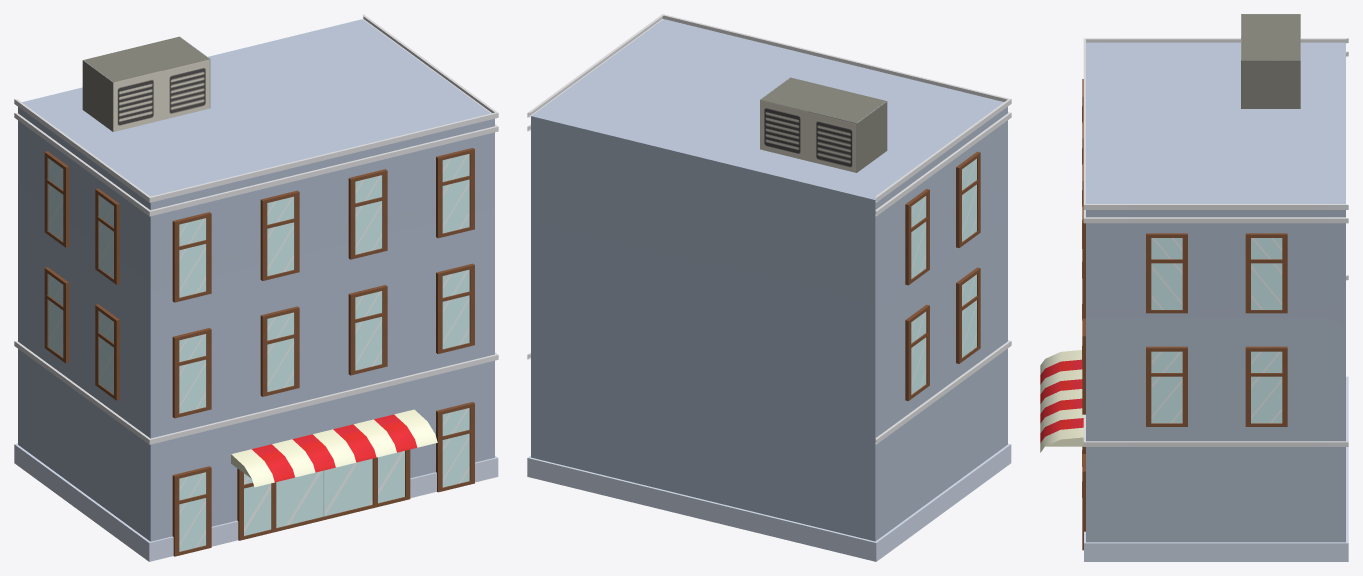
File: house-4.fbx
3 views of the same model, side by side, from view 1: azimuth 30°, elevation 25°; view 2: azimuth 150°, elevation 25°; view 3: azimuth 270°, elevation 25° (orthographic). The views are drawn at different scales.
Parts seen in each view (by area): view 1: house4; view 2: house4; view 3: house4.
Boxes of the visible parts, x1,y1,x2,y2 form: house4: (14, 14, 498, 561); house4: (527, 14, 1011, 561); house4: (1040, 14, 1348, 561).
Bounding box in the file's own units: 927 × 1033 × 718.
